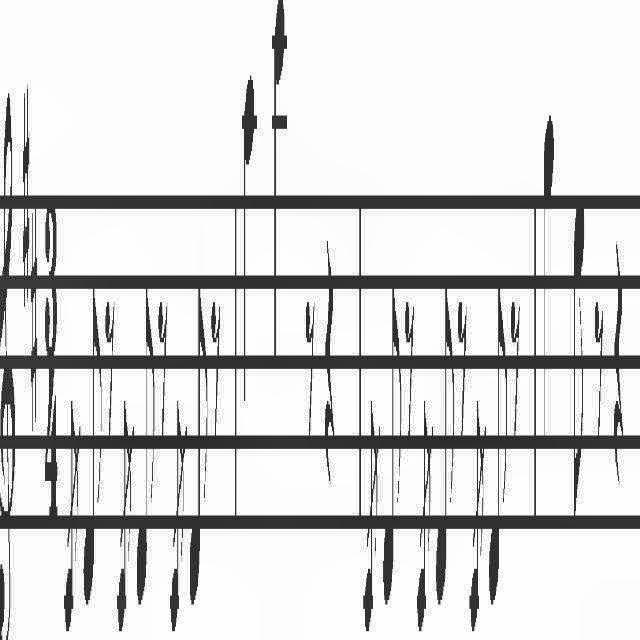Bass-clef: (0, 84, 16, 640)
Diez: (29, 197, 38, 439), (22, 77, 30, 315)
Eighth-note: (435, 273, 457, 619), (188, 281, 210, 624), (81, 264, 102, 620), (136, 270, 156, 622), (488, 266, 508, 610), (382, 282, 402, 610), (572, 186, 590, 534)
Eighth-rest: (104, 283, 116, 442), (304, 286, 316, 442), (511, 286, 522, 442), (457, 289, 467, 451), (158, 286, 168, 446), (405, 286, 415, 446), (593, 296, 603, 454), (211, 292, 221, 446)
Quarter-note: (242, 61, 258, 420), (272, 0, 286, 378), (542, 99, 556, 461)
Quarter-rest: (324, 230, 336, 502), (614, 235, 624, 492)
